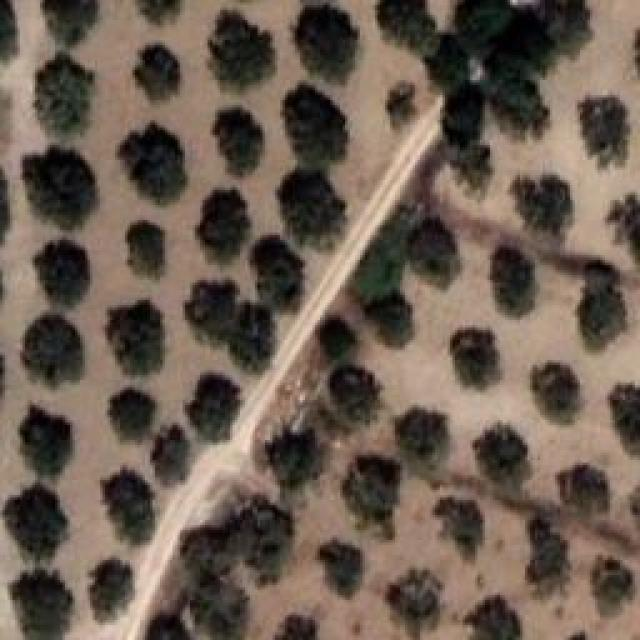Tree: (25, 148, 98, 230), (118, 123, 187, 206), (443, 80, 493, 191), (207, 10, 275, 91), (278, 168, 346, 246), (283, 85, 347, 166), (238, 493, 297, 580), (3, 483, 68, 561), (295, 5, 360, 82), (35, 53, 95, 135), (343, 455, 402, 538), (23, 315, 84, 387), (10, 572, 73, 640), (108, 300, 164, 375), (198, 190, 253, 265), (250, 235, 304, 310), (385, 568, 441, 640), (103, 468, 156, 544), (32, 240, 90, 308), (20, 405, 74, 476), (185, 275, 242, 342), (510, 176, 573, 236), (185, 373, 240, 441), (395, 407, 448, 477), (408, 218, 459, 290), (490, 80, 551, 138), (578, 98, 628, 168), (213, 108, 262, 176), (265, 430, 320, 490), (578, 285, 627, 351), (190, 582, 245, 640), (532, 0, 591, 54), (493, 245, 537, 317), (435, 498, 485, 561), (175, 528, 234, 579), (380, 0, 435, 54), (230, 305, 274, 372), (450, 330, 499, 390), (368, 290, 417, 350), (90, 557, 134, 622), (330, 367, 380, 422), (473, 424, 528, 474), (558, 465, 611, 516), (535, 364, 580, 424), (108, 387, 157, 442), (593, 555, 636, 616), (42, 0, 97, 47), (320, 540, 364, 598), (135, 45, 181, 99), (465, 595, 520, 640), (607, 194, 640, 267), (153, 425, 192, 486), (128, 223, 167, 279), (464, 0, 518, 39), (610, 385, 640, 455), (423, 30, 463, 80), (528, 535, 569, 583), (320, 318, 358, 363), (385, 83, 418, 131), (142, 612, 190, 640), (583, 257, 622, 289), (0, 0, 17, 59), (138, 0, 181, 23), (280, 617, 317, 640), (528, 515, 552, 550)
